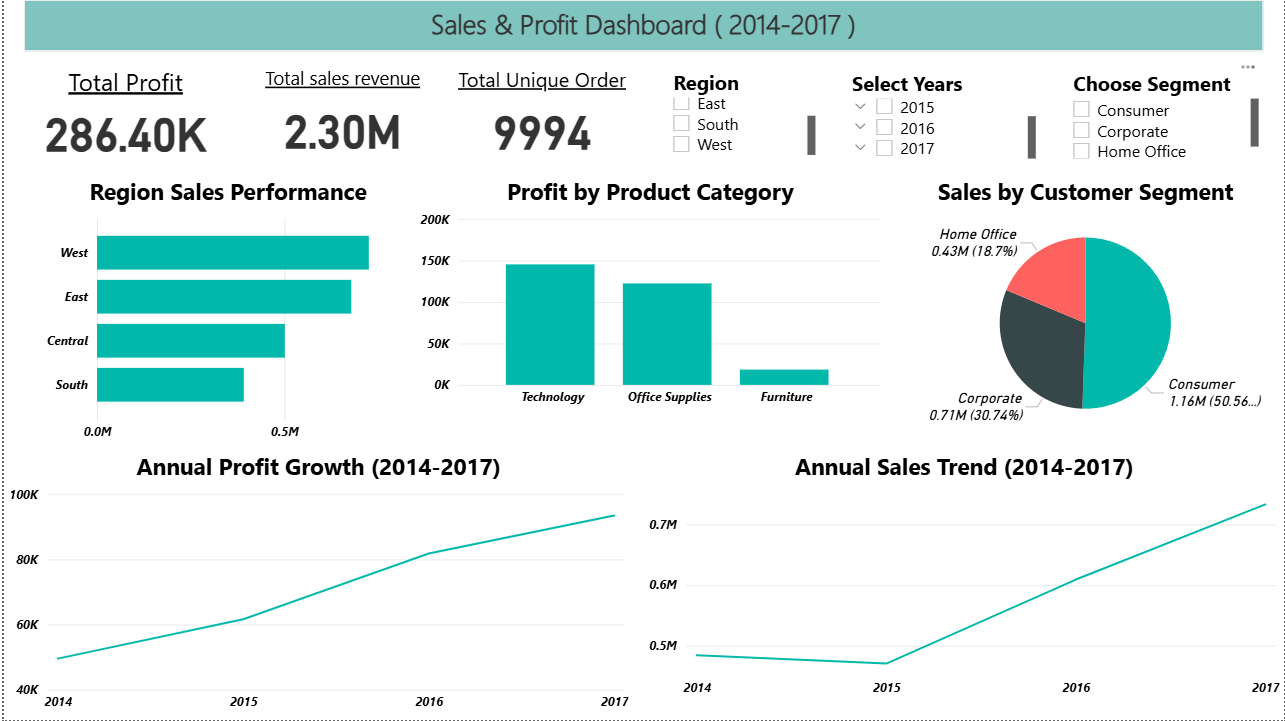

Layout of this report page (visuals, bound fields, positions):
{"tool":"powerbi","page":{"name":"Page 1","canvas":[1280,720],"ordinal":0},"visuals":[{"type":"lineChart","title":"Annual Sales Trend (2014-2017)","fields":{"Category":["test2.OrderYear"],"Y":["Sum(test2.Sales)"]},"box":[639.4,450.3,640.6,256.3],"z":0},{"type":"lineChart","title":"Annual Profit Growth (2014-2017)","fields":{"Category":["test2.OrderYear"],"Y":["Sum(test2.Profit)"]},"box":[0,450.3,629.4,269.9],"z":1000},{"type":"columnChart","title":"Profit by Product Category","fields":{"Category":["test2.Category"],"Y":["Sum(test2.Profit)"]},"box":[411.8,175.4,470.2,240.1],"z":2000},{"type":"pieChart","title":"Sales by Customer Segment","fields":{"Category":["test2.Segment"],"Y":["Sum(test2.Sales)"]},"box":[882,175.4,398.1,266.2],"z":3000},{"type":"barChart","title":"Region Sales Performance","fields":{"Category":["test2.Region"],"Y":["Sum(test2.Sales)"]},"box":[36.1,175.4,375.7,274.9],"z":4000},{"type":"slicer","fields":{"Values":["test2.OrderYear","test2.Order Date"]},"box":[835.2,64.8,201.8,98.7],"z":6000},{"type":"slicer","fields":{"Values":["test2.Region"]},"box":[656,64,160,96],"z":7000},{"type":"slicer","fields":{"Values":["test2.Segment"]},"box":[1056.1,64.8,203.3,98.7],"z":8000},{"type":"card","title":"Total Profit","fields":{"Values":["Sum(test2.Profit)"]},"box":[20.6,64.8,203.3,98.7],"z":9000},{"type":"card","title":"Total sales revenue","fields":{"Values":["Sum(test2.Sales)"]},"box":[251.9,64.8,172.3,98.7],"z":10000},{"type":"card","title":"Total Unique Order","fields":{"Values":["CountNonNull(test2.Order ID)"]},"box":[447.8,64.8,181.2,98.7],"z":11000},{"type":"textbox","box":[20.6,0,1238.8,51.6],"z":12000}]}

Visuals, with their boxes in screenshot pixels (x1, y1, x2, y2), scaled from the page's 1280x720 canvas onto the 1285x721 screenshot:
"Annual Sales Trend (2014-2017)" lineChart: 642 451 1284 708
"Annual Profit Growth (2014-2017)" lineChart: 0 451 632 720
"Profit by Product Category" columnChart: 413 176 885 416
"Sales by Customer Segment" pieChart: 885 176 1284 442
"Region Sales Performance" barChart: 36 176 413 451
slicer - test2.OrderYear x test2.Order Date: 838 65 1041 164
slicer - test2.Region: 659 64 819 160
slicer - test2.Segment: 1060 65 1264 164
"Total Profit" card: 21 65 225 164
"Total sales revenue" card: 253 65 426 164
"Total Unique Order" card: 450 65 631 164
textbox: 21 0 1264 52
